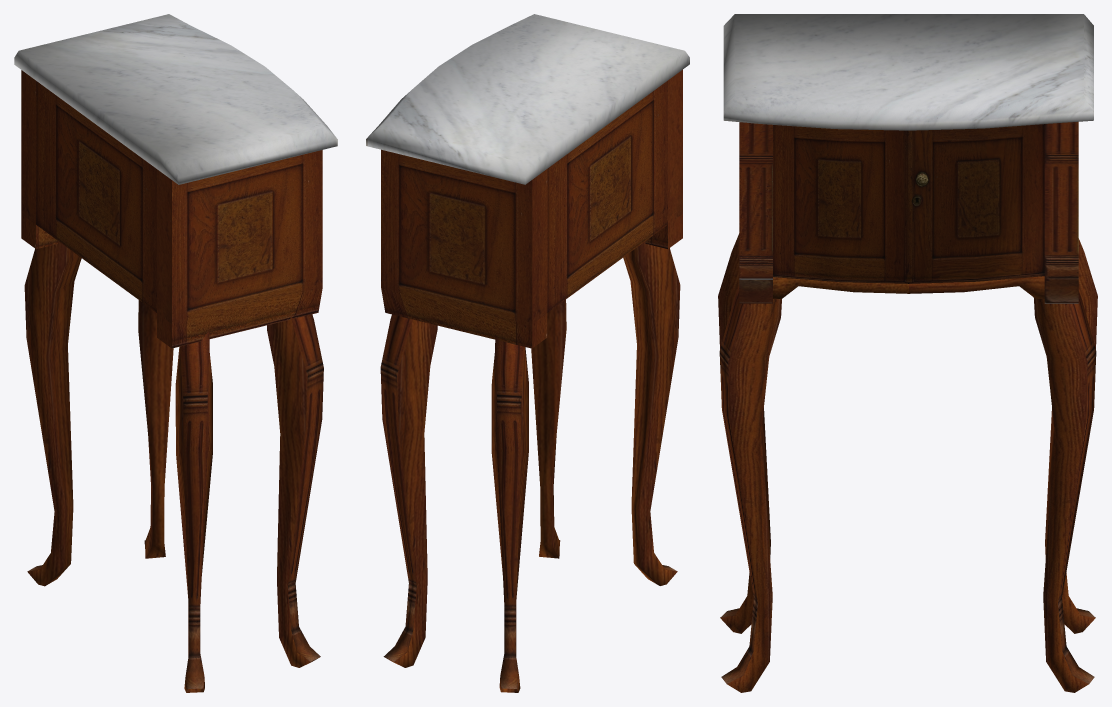
File: SmallEndtable.fbx
3 renders of one model, left to right at view 1: azimuth 30°, elevation 25°; view 2: azimuth 150°, elevation 25°; view 3: azimuth 270°, elevation 25°, orthographic. The views are drawn at different scales.
Parts seen in each view (by area): view 1: Cupboard1.001; view 2: Cupboard1.001; view 3: Cupboard1.001.
Boxes of the visible parts, x1=… form: Cupboard1.001: x1=14, y1=14, x2=337, y2=692; Cupboard1.001: x1=366, y1=14, x2=689, y2=692; Cupboard1.001: x1=718, y1=14, x2=1097, y2=692.
Bounding box in the file's own units: 127 × 367 × 210.
